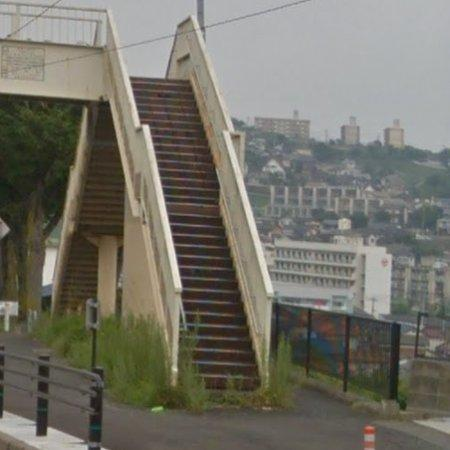stairs: (131, 77, 260, 391)
